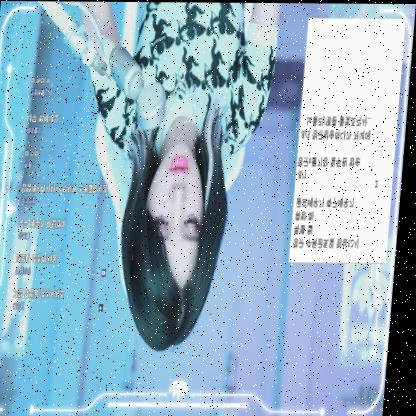streamer: (54, 0, 281, 352)
